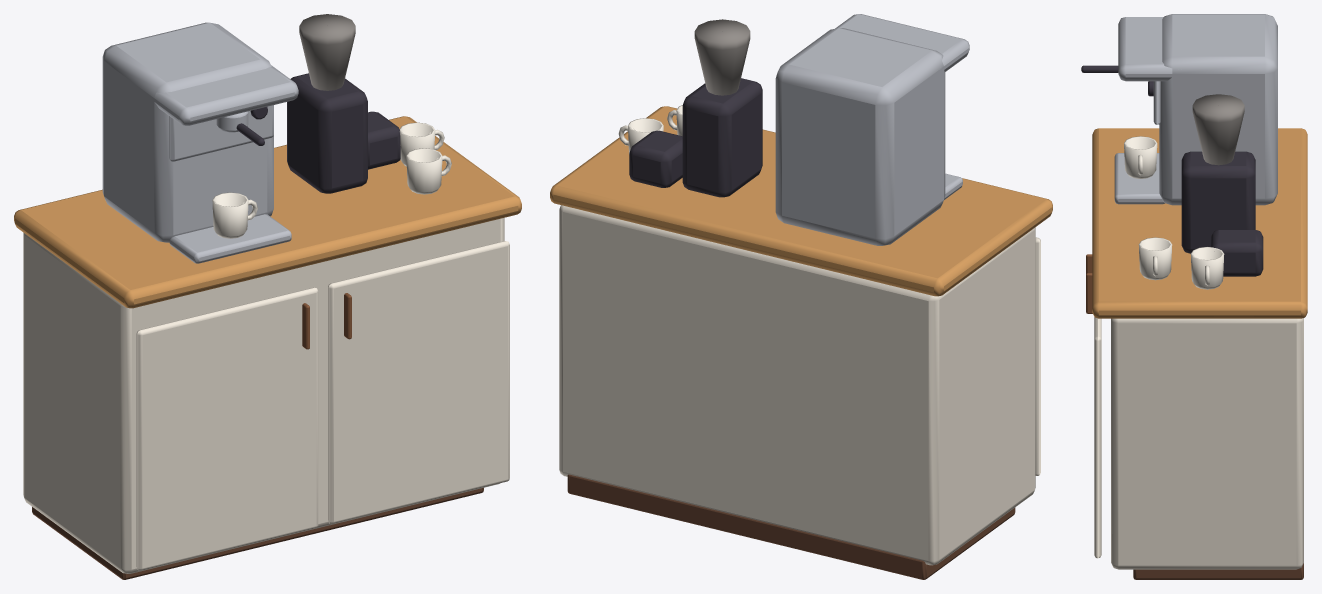
Rendered from espresso_l2.glb.
The picture shows the model from 3 angles, left to right: view 1: azimuth 30°, elevation 25°; view 2: azimuth 150°, elevation 25°; view 3: azimuth 270°, elevation 25°; orthographic projection. The views are drawn at different scales.
Visible parts, largest first — view 1: espresso_l2; view 2: espresso_l2; view 3: espresso_l2.
Part boxes in pixels (x1,y1,x2,y2): espresso_l2: (14,14,521,579); espresso_l2: (550,14,1052,579); espresso_l2: (1081,14,1307,579).
Size of the model in its own units: 1.14 by 1.29 by 0.61.
